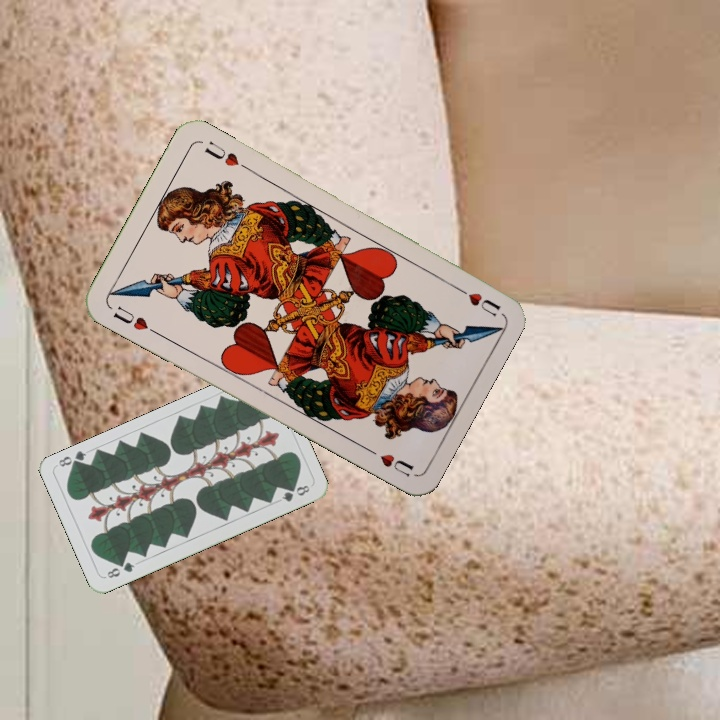G8: (103, 558, 137, 581)
HU: (449, 281, 503, 320), (109, 302, 161, 337)
